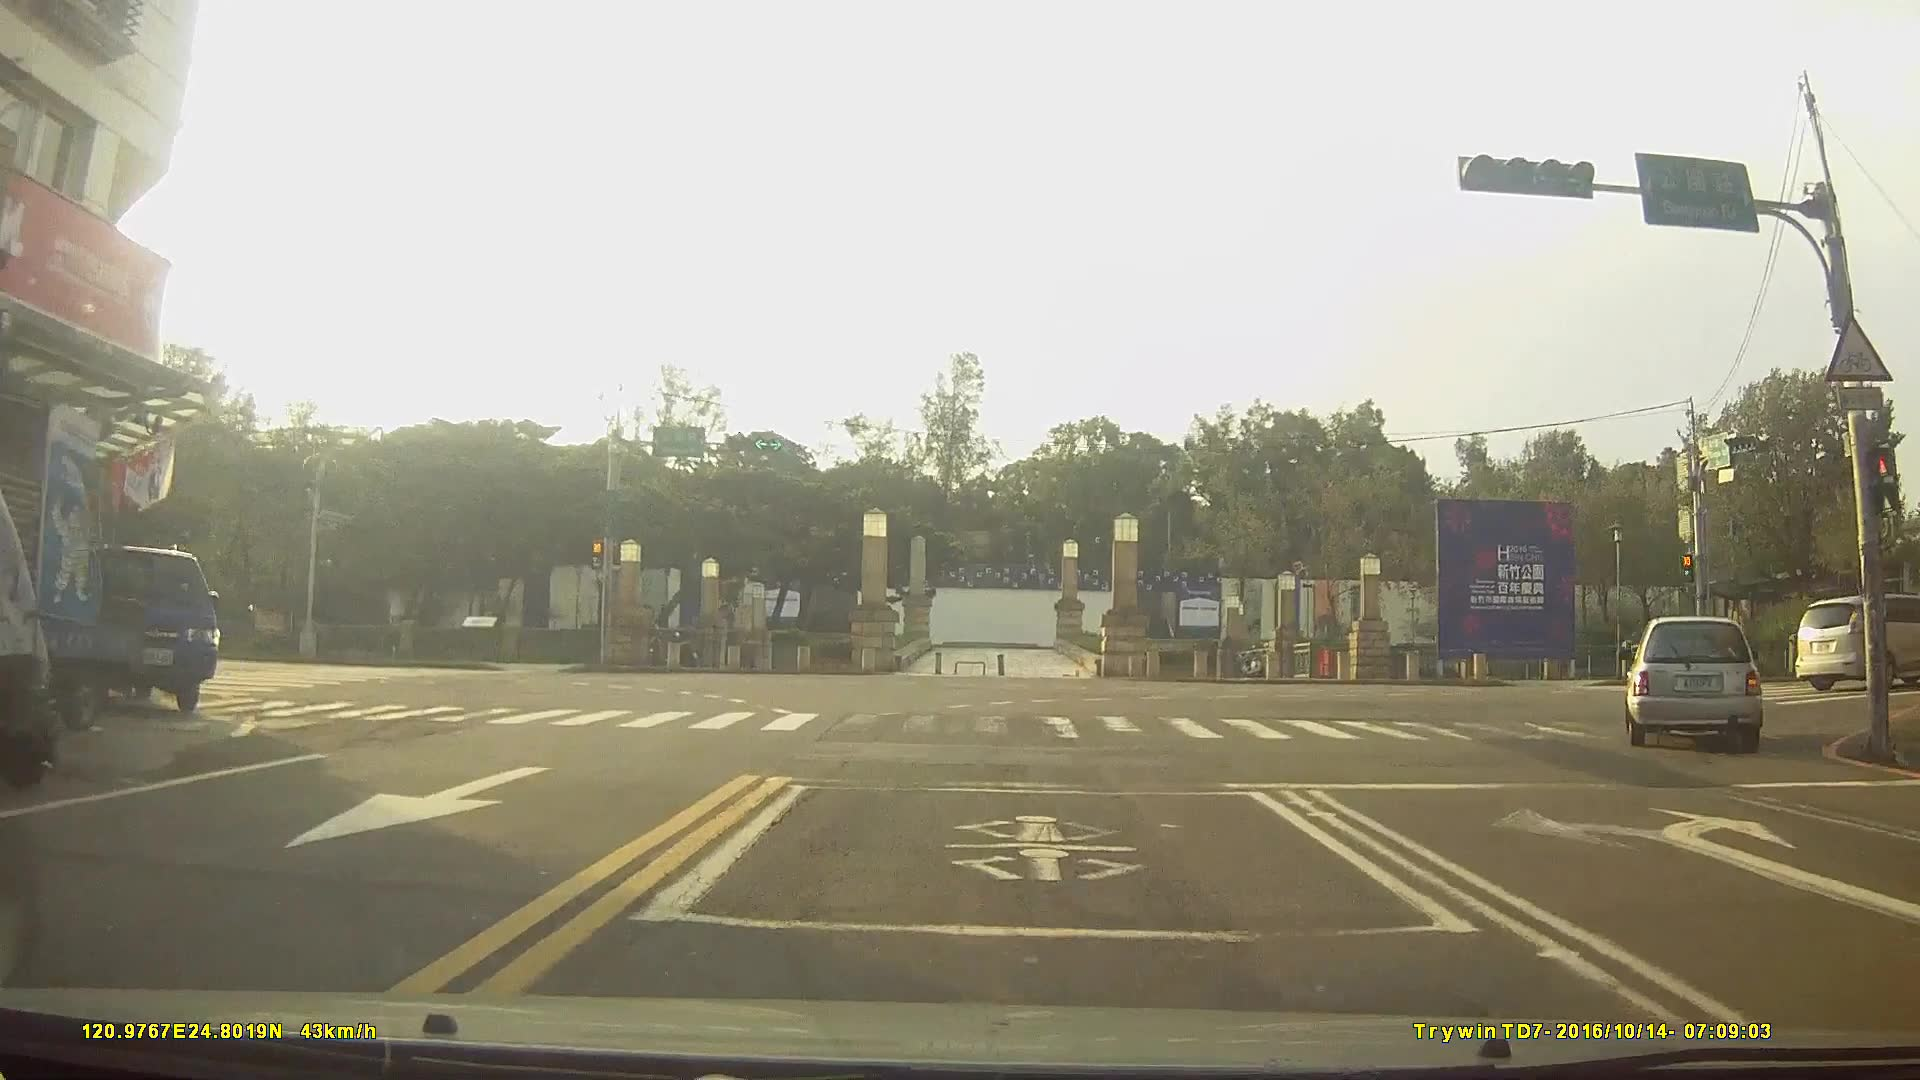vehicle: (87, 539, 218, 713), (1622, 615, 1762, 746), (1795, 592, 1920, 688)
